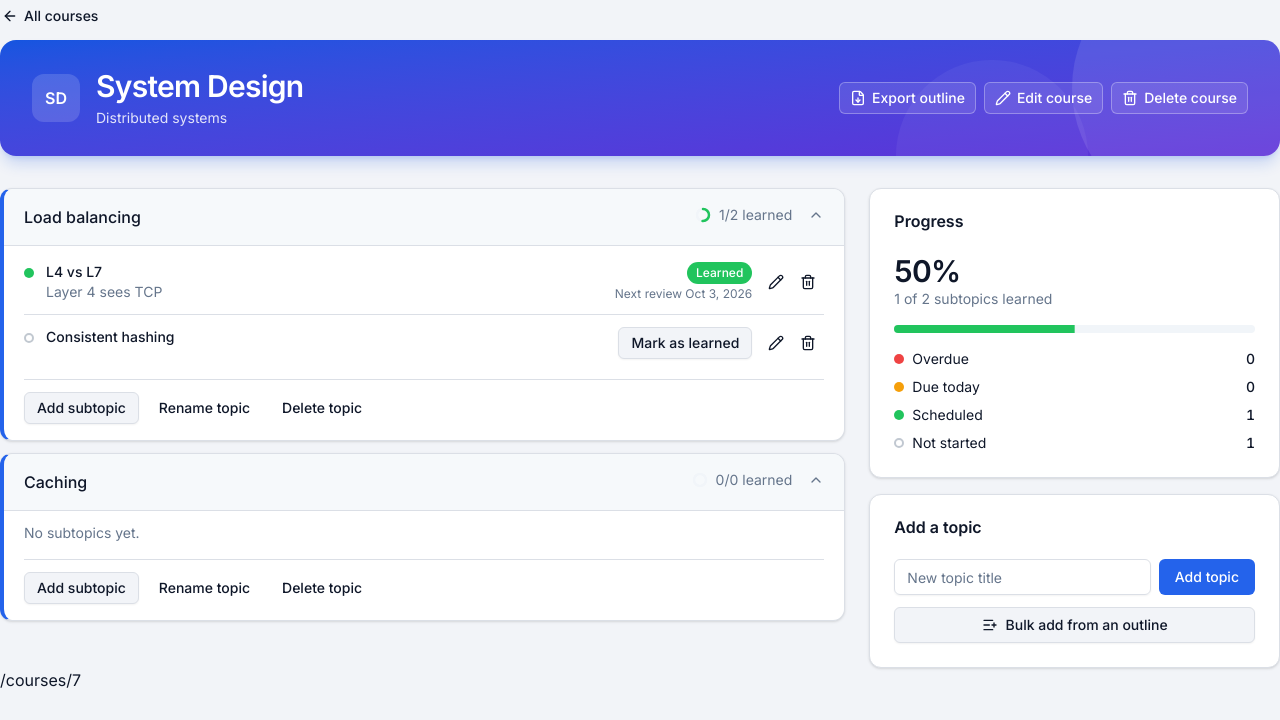
Test: editing the course › puts the server's message on the field and keeps the dialog
Click the button "Edit course": point(1044, 98) [984, 82, 1103, 114]
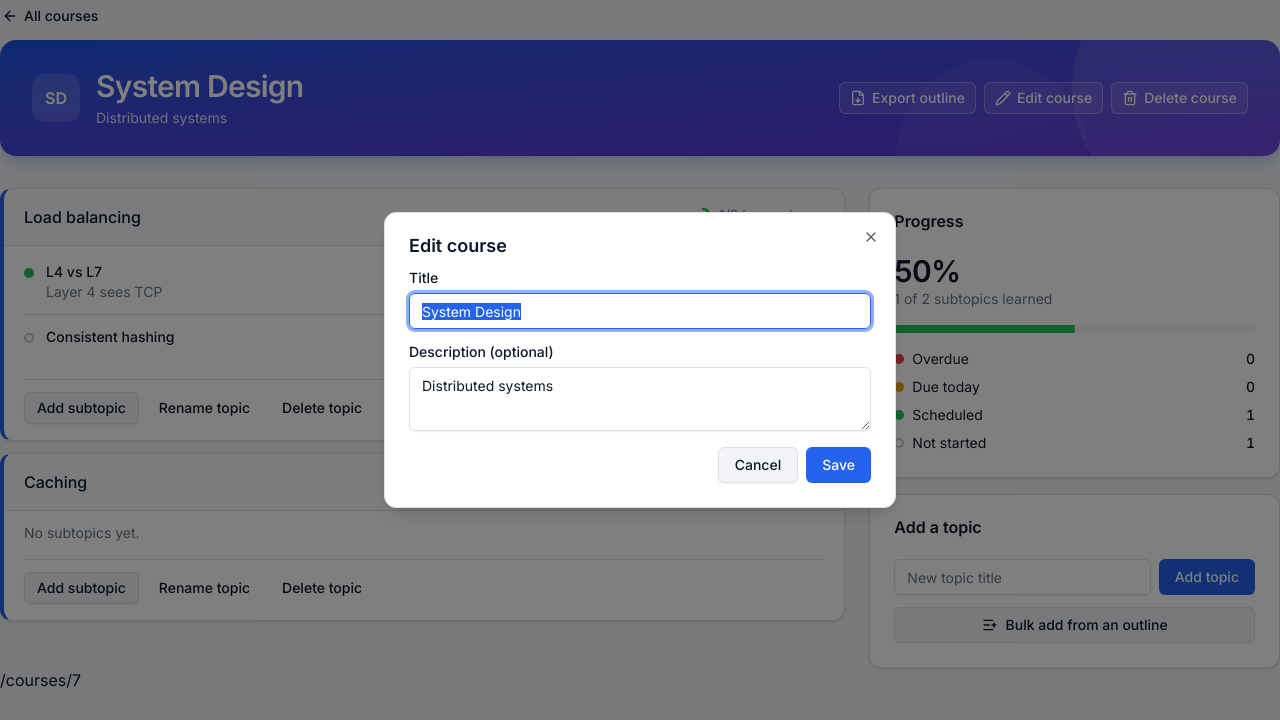
Click the button "Save": point(839, 465) [806, 447, 871, 483]
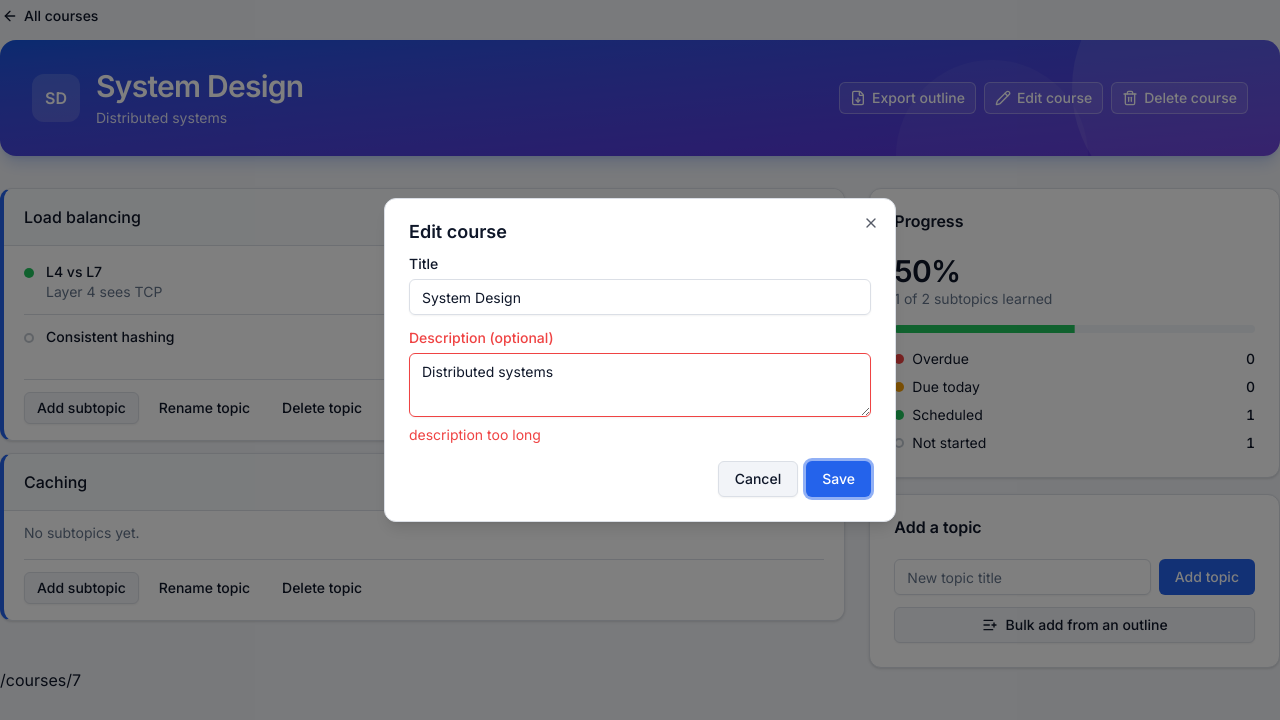
Now the text "description too long" is shown, box [409, 426, 541, 443]
